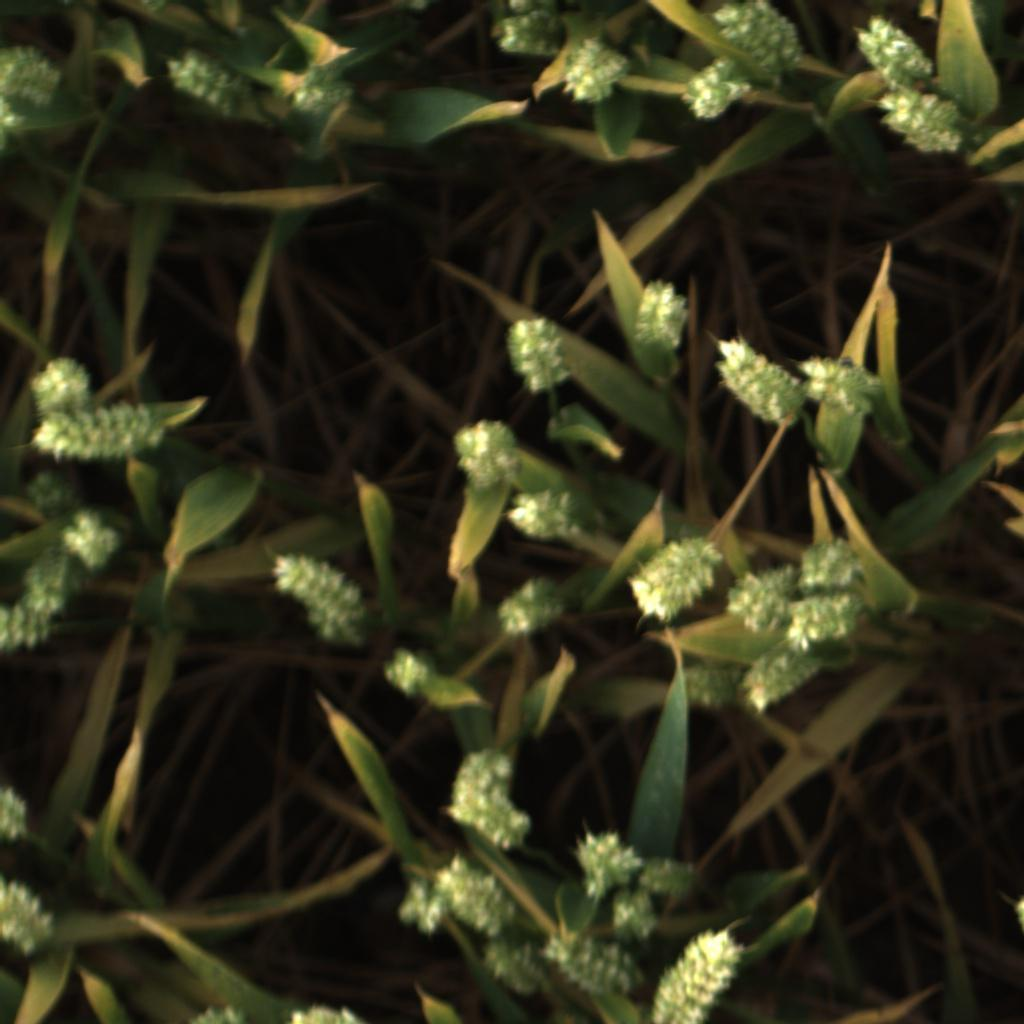0-0: (271, 549, 373, 651), (708, 335, 813, 429), (648, 924, 745, 1023), (622, 535, 722, 631), (536, 923, 649, 1007), (28, 400, 170, 463), (708, 0, 807, 78), (436, 852, 520, 940), (875, 82, 971, 158), (741, 632, 825, 718), (852, 14, 940, 94), (443, 421, 536, 496), (500, 311, 575, 401), (722, 556, 806, 633), (443, 744, 518, 829), (164, 48, 258, 114), (789, 533, 870, 604), (497, 487, 591, 548), (798, 356, 885, 420), (631, 273, 695, 357), (570, 831, 643, 904), (559, 36, 635, 106), (0, 874, 61, 959), (0, 35, 67, 110), (679, 57, 754, 123), (781, 592, 860, 653), (24, 542, 90, 615), (479, 935, 551, 996), (468, 787, 533, 854), (494, 573, 563, 636), (61, 509, 125, 574), (27, 352, 95, 412), (601, 886, 665, 949), (0, 595, 58, 658), (486, 8, 559, 58), (675, 657, 736, 714), (395, 876, 448, 938), (287, 76, 353, 123), (643, 852, 706, 898), (22, 466, 75, 520), (382, 649, 433, 697), (0, 781, 35, 844), (286, 998, 367, 1024), (0, 97, 27, 152), (187, 1001, 247, 1024), (503, 0, 535, 16), (139, 0, 169, 15)
